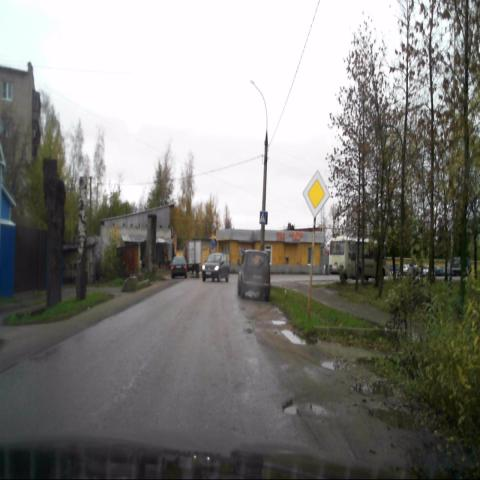2_1: (302, 170, 330, 218)
5_19_1: (259, 212, 267, 224)
